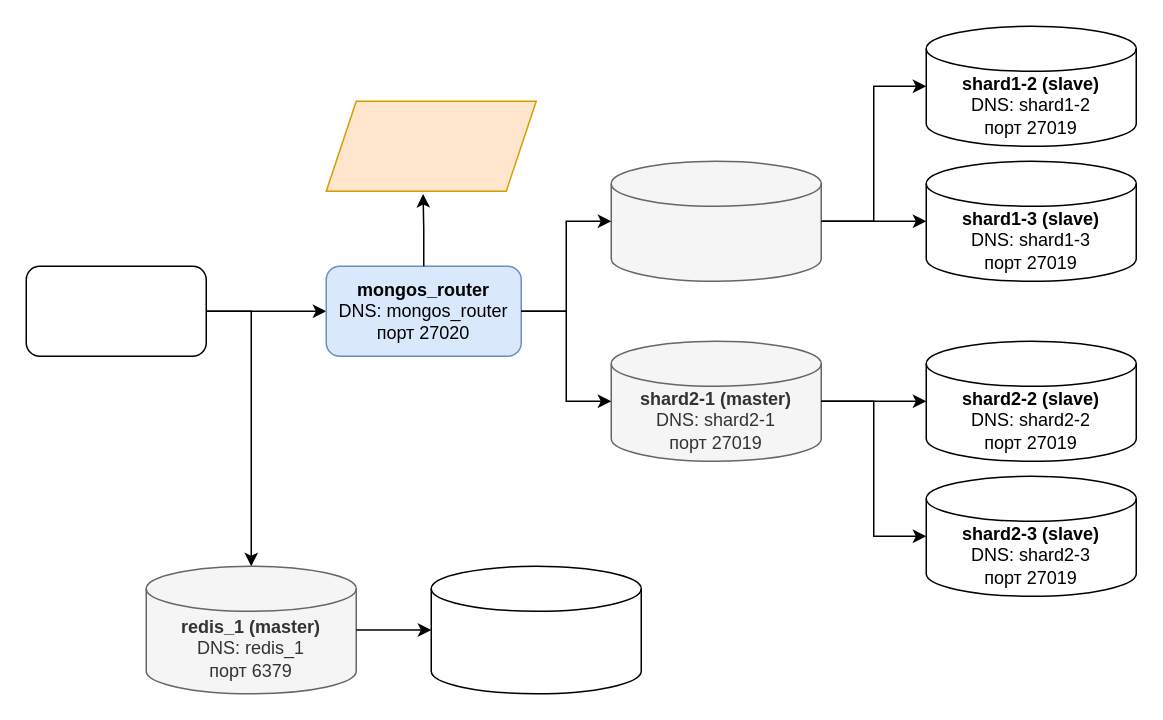
This 1163x720 diagram has some shape labels left out. The shapes that lost their labels are listed below. From the top down, each one's centre as x and y in pixels, then its label:
point 430,145: configSrv DNS: configSrv порт 27017
point 715,220: shard1-1 (master) DNS: shard1-1 порт 27019
point 115,310: pymongo-api
point 535,629: redis_2 (replica) DNS: redis_2 порт 6379
